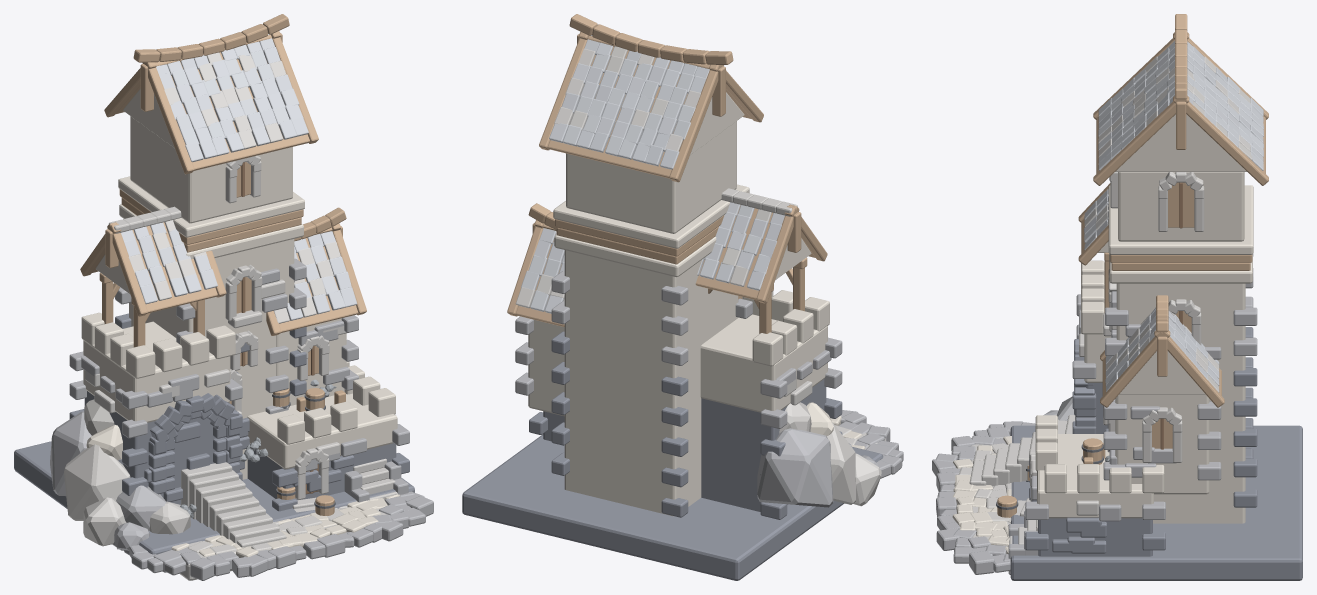
3 views of the same model, side by side, from view 1: azimuth 30°, elevation 25°; view 2: azimuth 150°, elevation 25°; view 3: azimuth 270°, elevation 25° (orthographic). The views are drawn at different scales.
Visible parts, largest first — view 1: MainTower_TopShaft, MainTower_LowerShaft, Gatehouse_UpperWall, RightTerrace_UpperBase, Base_FoundationCore, CliffBoulder_1, MainTower_UpperLedge, Gatehouse_LowerWall, RightTerrace_LowerBase, CliffBoulder_0, RightCottage_Body, CliffBoulder_3 (+36 smaller); view 2: MainTower_LowerShaft, Base_FoundationCore, MainTower_TopShaft, Gatehouse_UpperWall, Gatehouse_LowerWall, CliffBoulder_0, MainTower_UpperLedge, RightCottage_Body, MainTower_StoneBelt, CliffBoulder_1, MainTower_Roof_SlopeBase_1, MainTower_WoodBelt2 (+16 smaller); view 3: Base_FoundationCore, MainTower_LowerShaft, MainTower_TopShaft, RightCottage_Body, RightTerrace_UpperBase, MainTower_Roof_GableCore, MainTower_UpperLedge, RightTerrace_LowerBase, RightCottage_Roof_GableCore, MainTower_StoneBelt, MainTower_Roof_Barge_-1_-1, MainTower_Roof_Barge_-1_1 (+17 smaller).
Boxes of the visible parts, box(x1,y1,x2,y2) form: MainTower_TopShaft: box(130, 116, 292, 223); MainTower_LowerShaft: box(129, 239, 294, 479); Gatehouse_UpperWall: box(83, 321, 230, 422); RightTerrace_UpperBase: box(247, 393, 397, 469); Base_FoundationCore: box(14, 441, 414, 554); CliffBoulder_1: box(64, 444, 130, 520); MainTower_UpperLedge: box(118, 176, 304, 237); Gatehouse_LowerWall: box(84, 391, 215, 504); RightTerrace_LowerBase: box(247, 443, 396, 500); CliffBoulder_0: box(50, 411, 91, 496); RightCottage_Body: box(276, 318, 346, 405); CliffBoulder_3: box(83, 497, 126, 546); MainTower_LowerShaft: box(564, 250, 738, 516); Base_FoundationCore: box(462, 434, 883, 580); MainTower_TopShaft: box(566, 121, 736, 233); Gatehouse_UpperWall: box(700, 314, 827, 412); Gatehouse_LowerWall: box(701, 379, 826, 511); CliffBoulder_0: box(757, 428, 833, 507); MainTower_UpperLedge: box(553, 184, 749, 248); RightCottage_Body: box(528, 320, 564, 416); MainTower_StoneBelt: box(554, 234, 716, 277); CliffBoulder_1: box(827, 422, 855, 504); MainTower_Roof_SlopeBase_1: box(548, 46, 687, 178); MainTower_WoodBelt2: box(555, 215, 724, 256); Base_FoundationCore: box(1010, 425, 1302, 580); MainTower_LowerShaft: box(1116, 283, 1245, 523); MainTower_TopShaft: box(1118, 172, 1244, 241); RightCottage_Body: box(1115, 394, 1209, 494); RightTerrace_UpperBase: box(1037, 434, 1153, 518); MainTower_Roof_GableCore: box(1115, 114, 1246, 171); MainTower_UpperLedge: box(1108, 185, 1253, 254); RightTerrace_LowerBase: box(1038, 518, 1152, 556); RightCottage_Roof_GableCore: box(1119, 351, 1205, 394); MainTower_StoneBelt: box(1109, 254, 1252, 283); MainTower_Roof_Barge_-1_-1: box(1093, 96, 1189, 185); MainTower_Roof_Barge_-1_1: box(1173, 96, 1268, 185).
Size of the model in its own units: 0.695 by 0.9993 by 0.7186.
